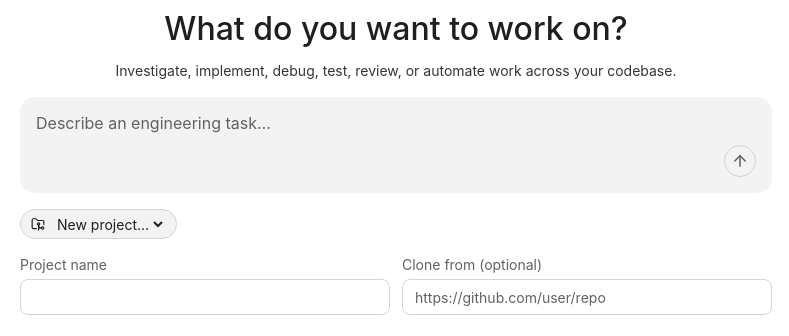
it: StartPage › starts normally once the address is confirmed
Step 1. Type "demo" into the field labelled "Project name" → (205,297), box top-left (20, 279), bottom-right (390, 315)
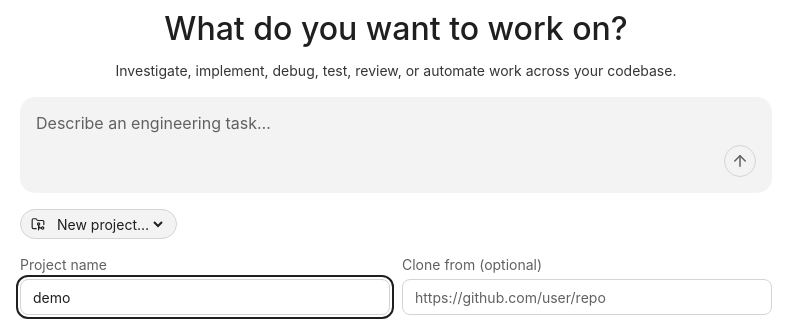
Step 2. Type "hello" into the text box named "Message" → (396,123), box top-left (36, 113), bottom-right (756, 133)
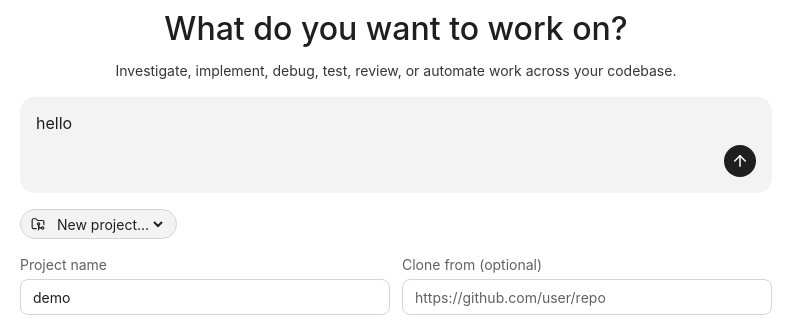
Result: the button named "Send" is enabled at top-left (724, 145), bottom-right (756, 177)
